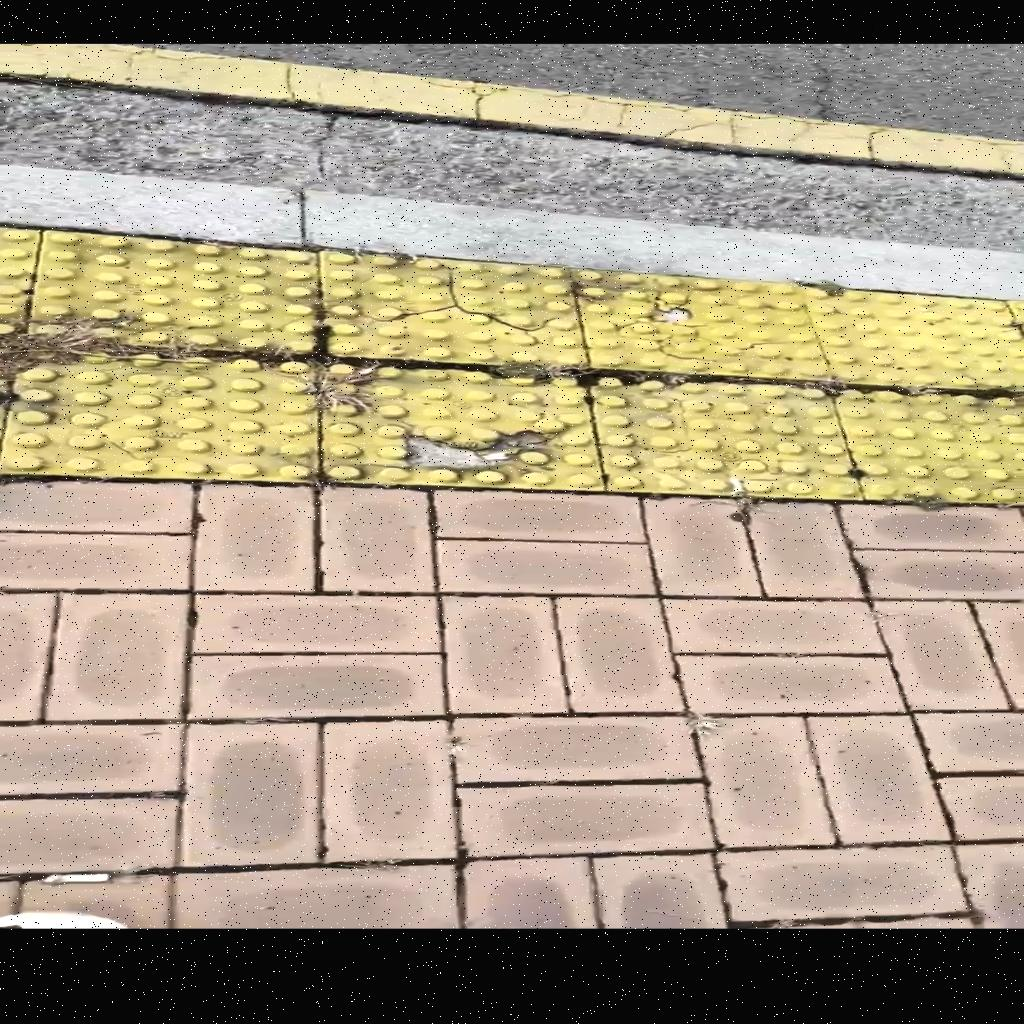Stop block broken: (316, 363, 610, 498), (314, 252, 594, 372), (566, 270, 835, 381)
Stop block normal: (586, 376, 866, 502)
